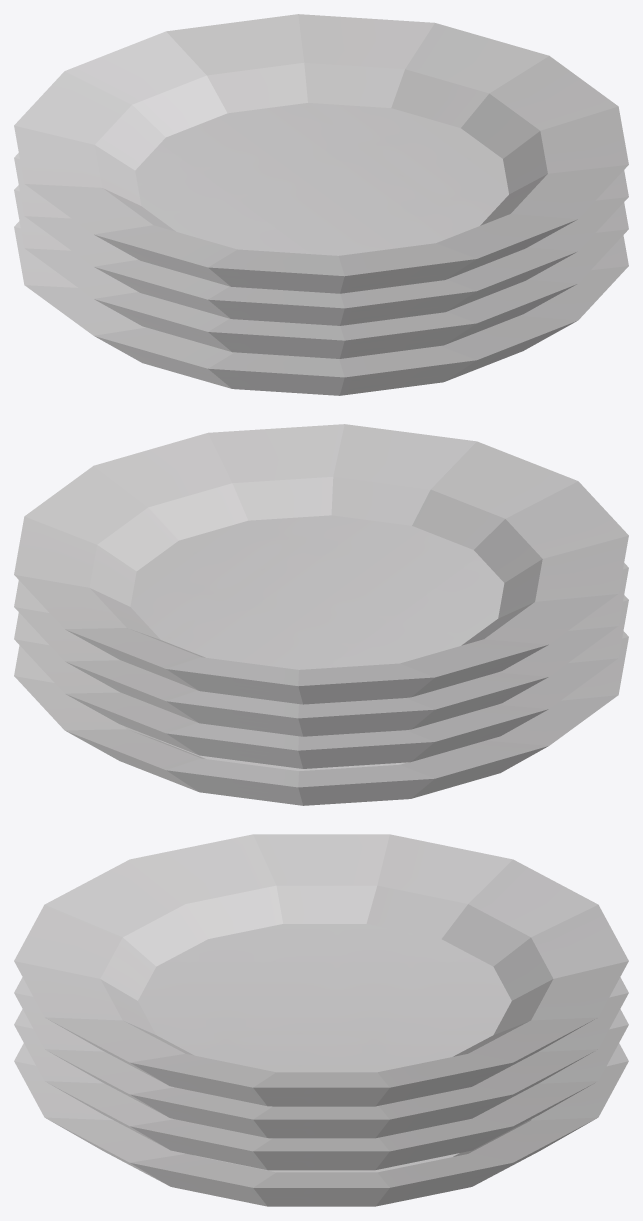
The model's file is KitchenPlates.fbx.
3 views of the same model, one above another, from view 1: azimuth 30°, elevation 25°; view 2: azimuth 150°, elevation 25°; view 3: azimuth 270°, elevation 25° (orthographic).
Parts seen in each view (by area): view 1: plates; view 2: plates; view 3: plates.
Boxes of the visible parts, x1,y1,x2,y2 form: plates: (14,14,628,395); plates: (14,424,628,805); plates: (14,834,628,1206).
Size of the model in its own units: 195 by 52.42 by 200.
